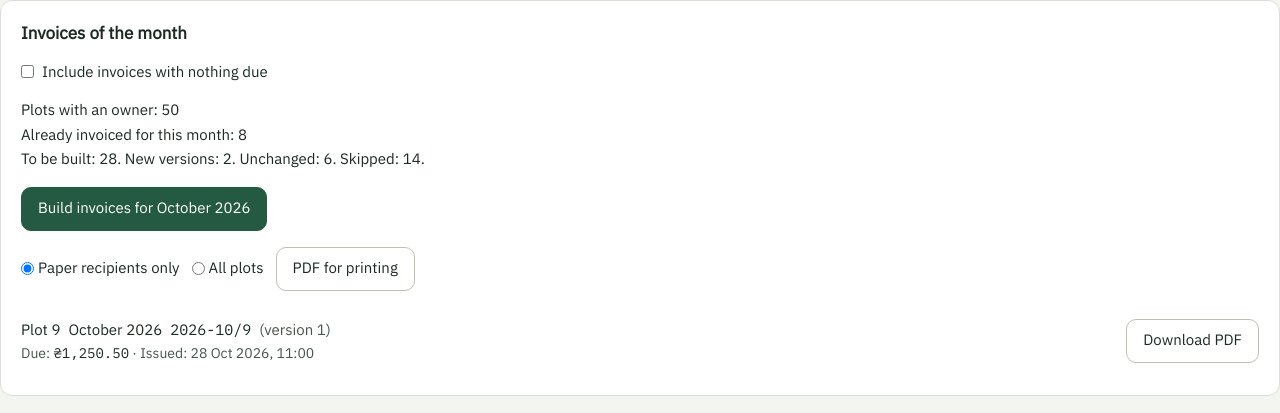
Test case: MonthInvoicesPanel › shows the result in place of the preview after a build until the switch changes
This screenshot has width=1280, height=413.
Expected: the list item "To be built: 28. New versions: 2. Unchanged: 6. Skipped: 14." is shown, [21,149,425,168]
What coordinates should you click on to do the following:
click the button "Build invoices for October 2026"
I would click on:
 (144, 208)
Its box is [21,186,268,230].
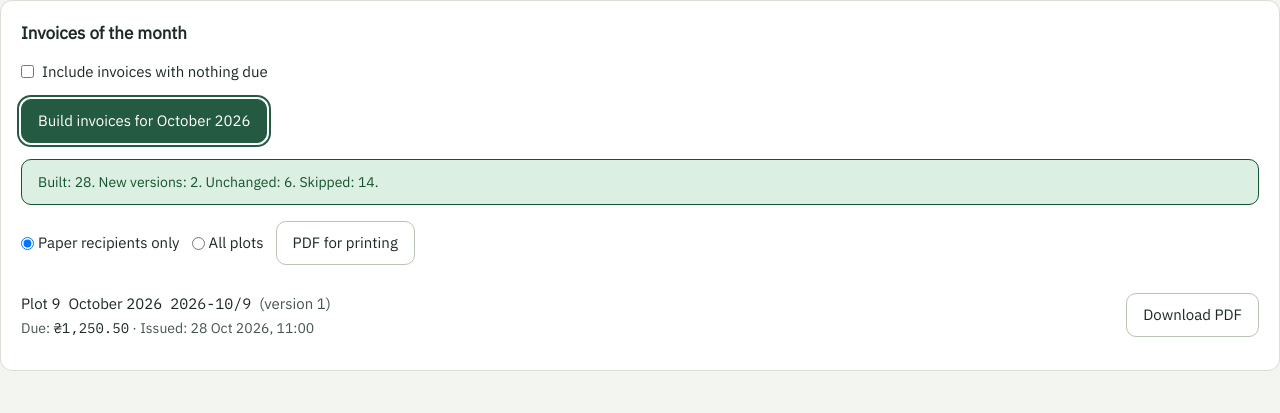
Expected: the text "Built: 28. New versions: 2. Unchanged: 6. Skipped: 14." is shown, [21,159,1259,205]
Result: the list item "To be built: 28. New versions: 2. Unchanged: 6. Skipped: 14." is gone
// a change of the switch drops the result and shows the current preview
What coordinates should you click on to do the following:
click the checkbox labelled "Include invoices with nothing due"
I would click on:
 (28, 72)
Its box is [21,65,34,78].
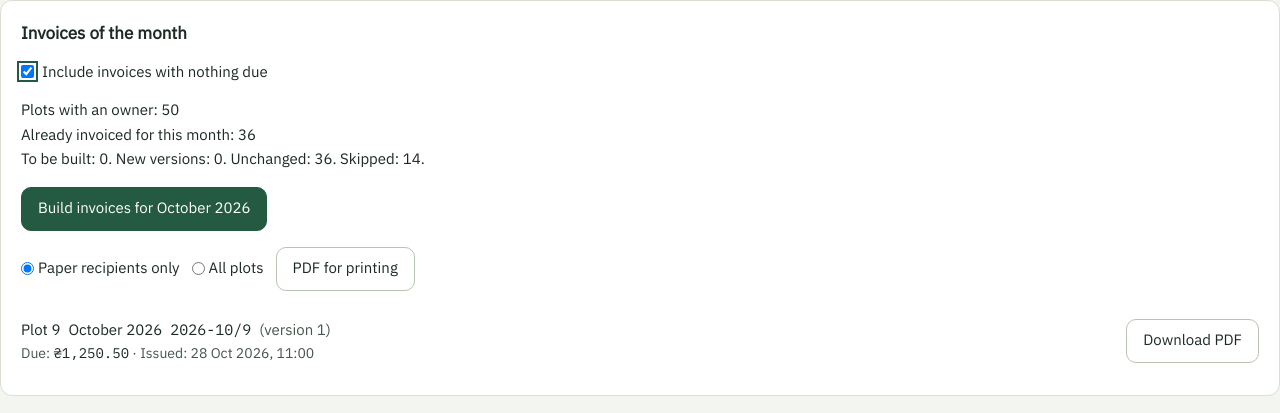
Result: the list item "Already invoiced for this month: 36" is shown at [21,124,256,144]
Result: the text "Built: 28. New versions: 2. Unchanged: 6. Skipped: 14." is gone
